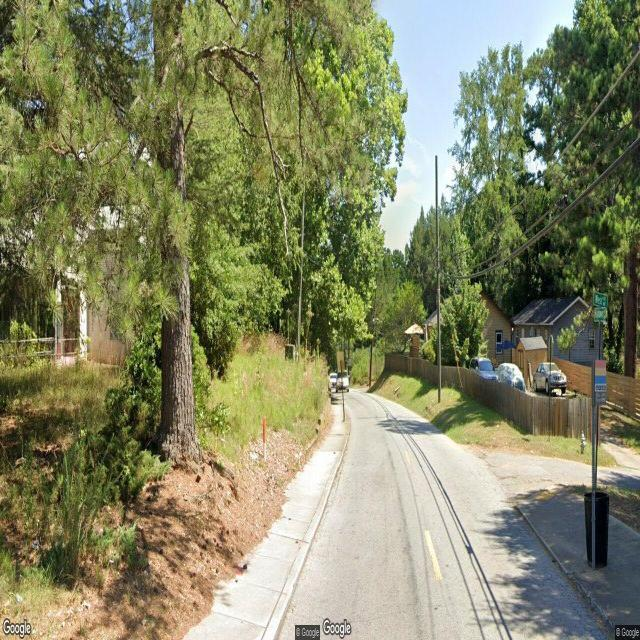trash_can: (583, 490, 609, 570)
